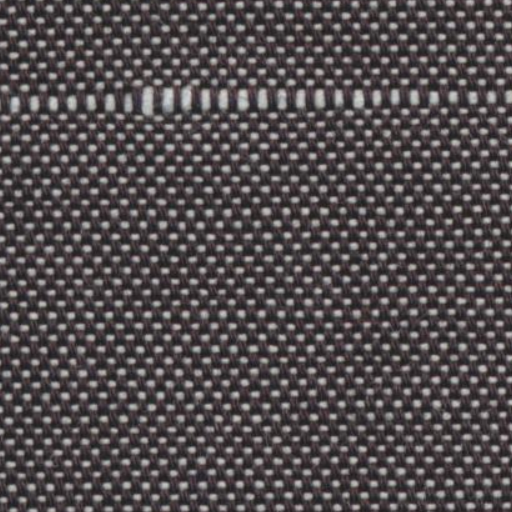DaiSha: (16, 70, 485, 134)
